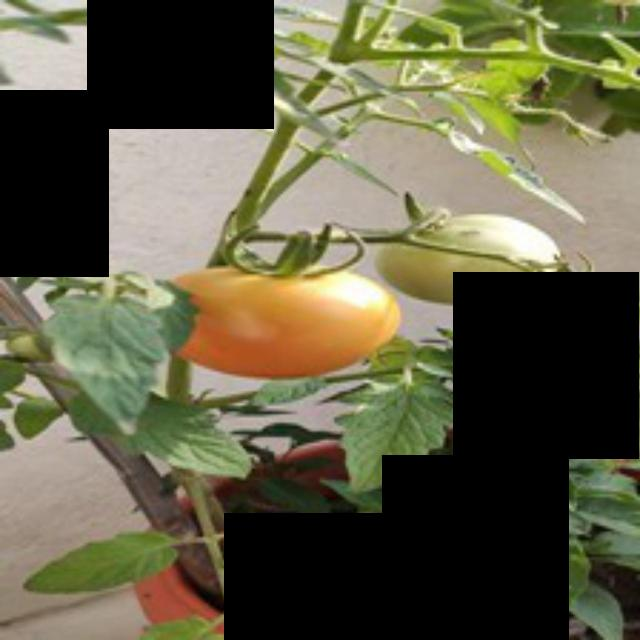tomato: (146, 256, 422, 386)
